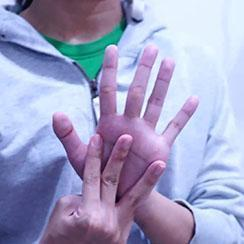M: (26, 5, 214, 244)
